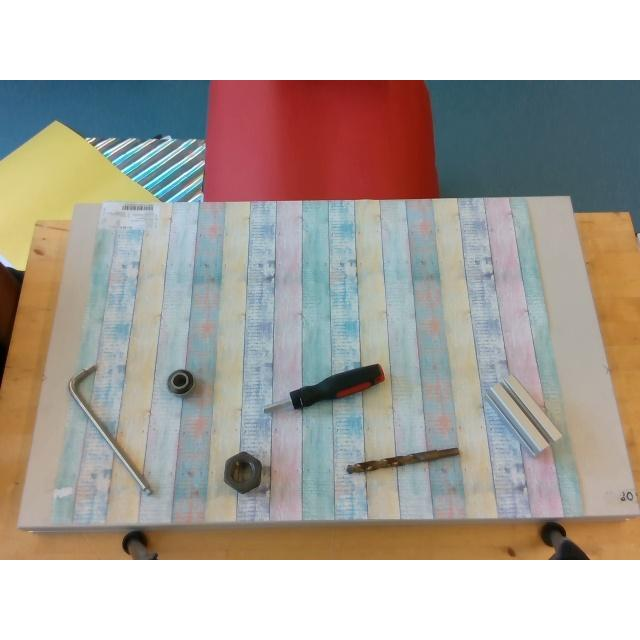AllenKey: (66, 365, 150, 493)
Bearing2: (166, 369, 194, 395)
Drill: (346, 447, 458, 473)
M30: (223, 452, 260, 492)
S40_40_G: (487, 374, 561, 454)
